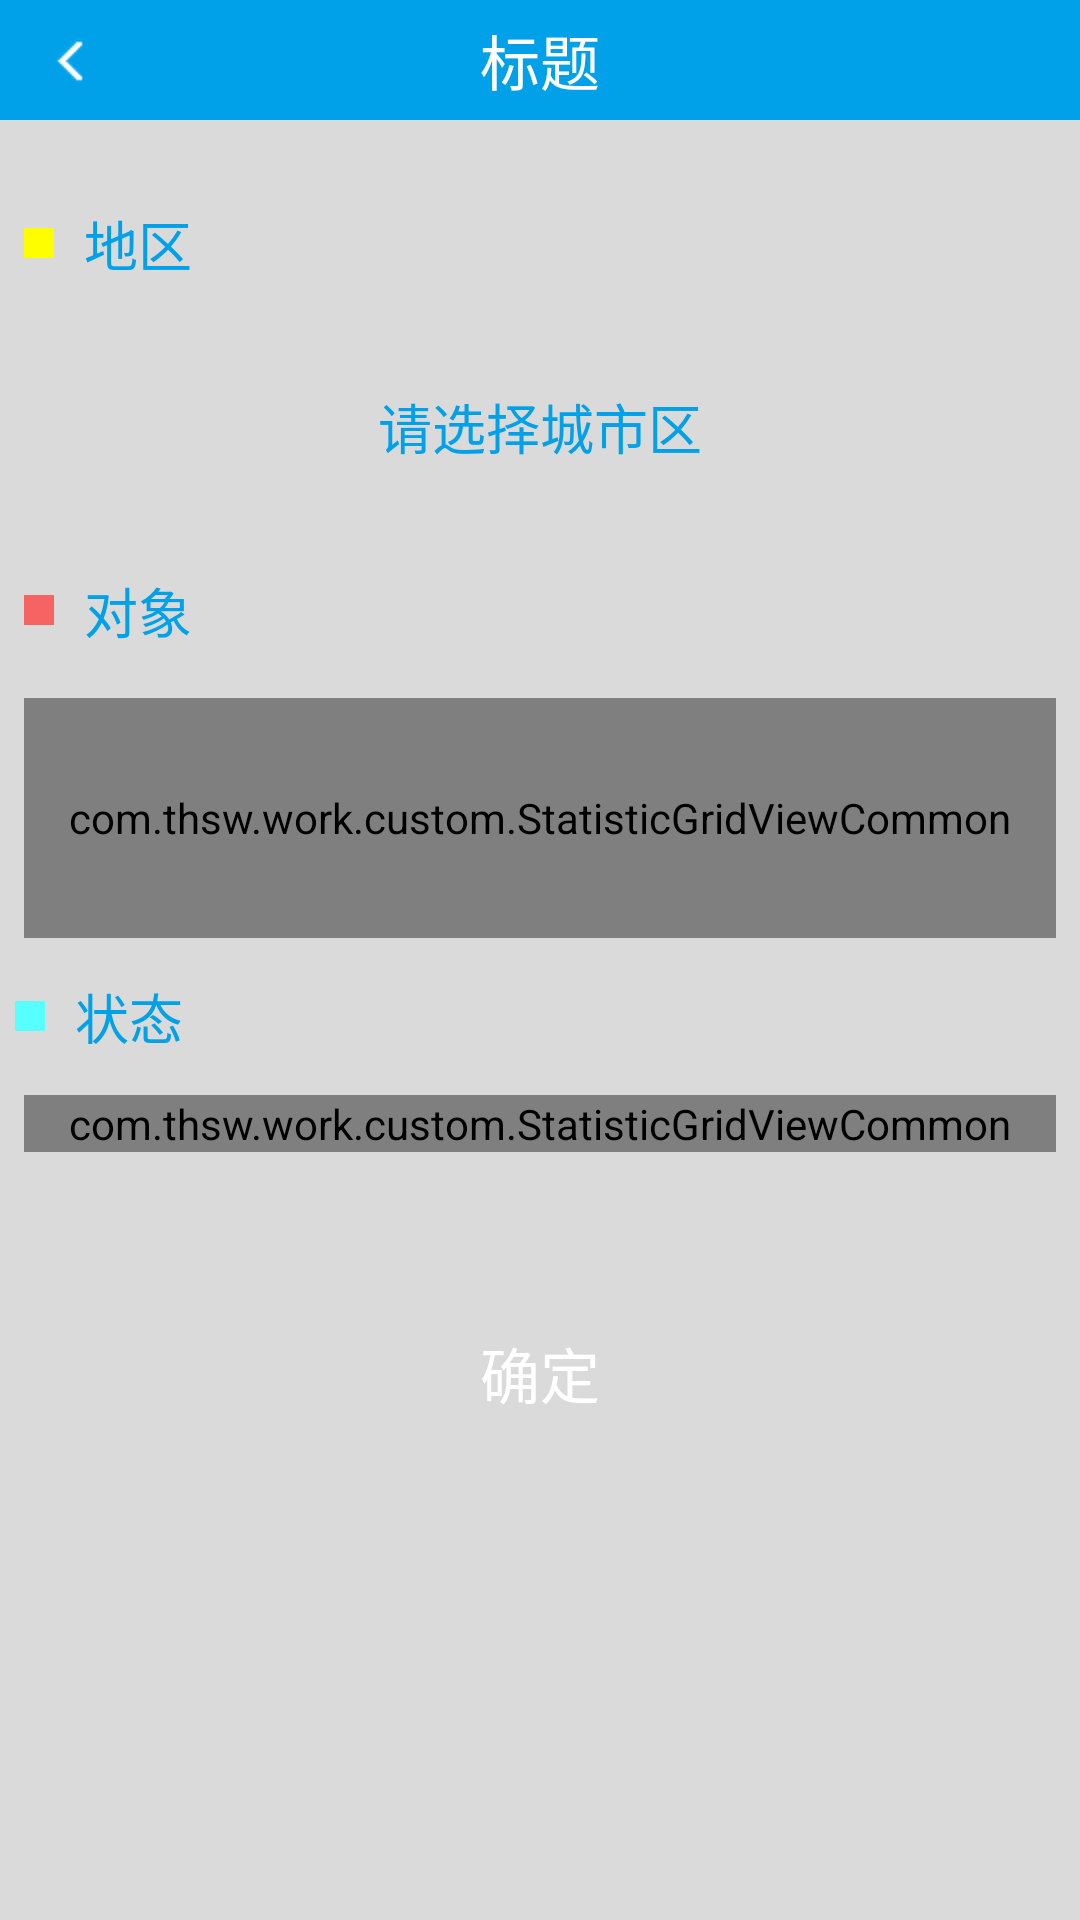

Icons on this 1080x1920 Android screen, each with its box as region(x1, y1, x2, y2):
back: region(57, 41, 83, 81)
